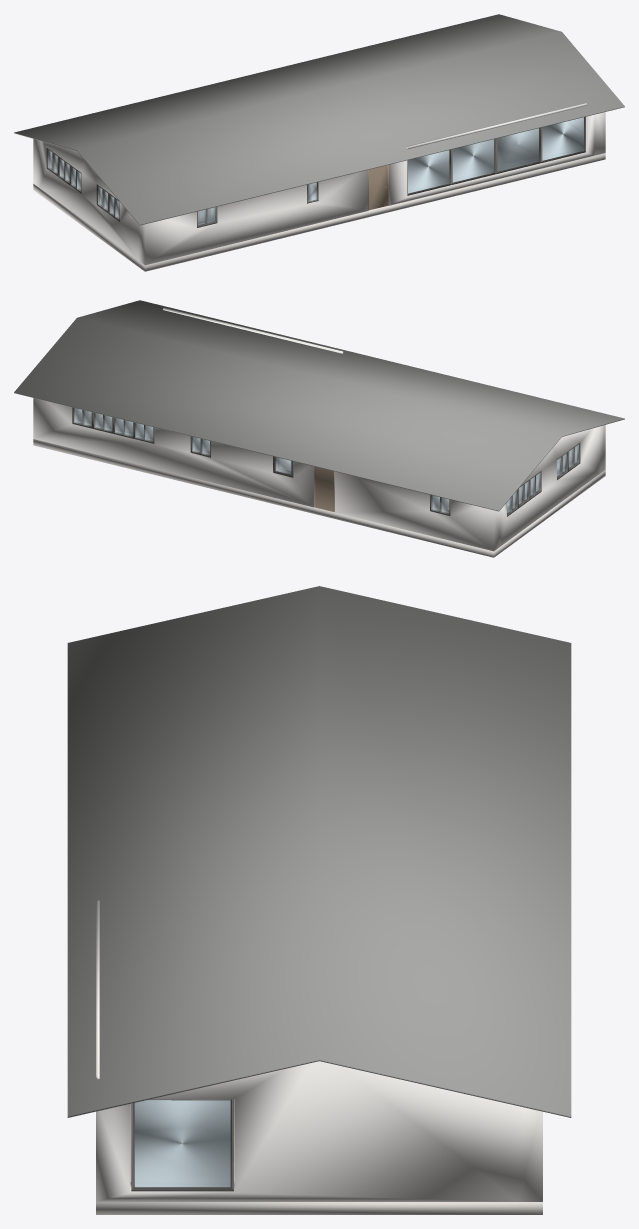
File: basic-house.glb
3 renders of one model, top to bottom at view 1: azimuth 30°, elevation 25°; view 2: azimuth 150°, elevation 25°; view 3: azimuth 270°, elevation 25°, orthographic. The views are drawn at different scales.
Parts seen in each view (by area): view 1: storey1_roof, storey0_wall, storey0_glass, storey0_floor, storey0_frame, storey0_door; view 2: storey1_roof, storey0_wall, storey0_floor, storey0_glass, storey0_frame, storey0_door; view 3: storey1_roof, storey0_wall, storey0_glass, storey0_floor, storey0_frame.
Part boxes in pixels (left/top/right/bottom): storey1_roof: left=14, top=14, right=624, bottom=225; storey0_wall: left=33, top=103, right=605, bottom=265; storey0_glass: left=47, top=117, right=583, bottom=225; storey0_floor: left=33, top=153, right=605, bottom=271; storey0_frame: left=46, top=117, right=585, bottom=227; storey0_door: left=368, top=165, right=388, bottom=210; storey1_roof: left=14, top=300, right=624, bottom=511; storey0_wall: left=33, top=308, right=605, bottom=551; storey0_floor: left=33, top=411, right=605, bottom=557; storey0_glass: left=74, top=408, right=578, bottom=514; storey0_frame: left=72, top=407, right=580, bottom=516; storey0_door: left=314, top=466, right=334, bottom=511; storey1_roof: left=67, top=586, right=571, bottom=1117; storey0_wall: left=96, top=900, right=542, bottom=1201; storey0_glass: left=134, top=1100, right=230, bottom=1187; storey0_floor: left=96, top=1099, right=542, bottom=1214; storey0_frame: left=131, top=1099, right=233, bottom=1191.
Bounding box in the file's own units: 23.8 × 3.92 × 10.7.
